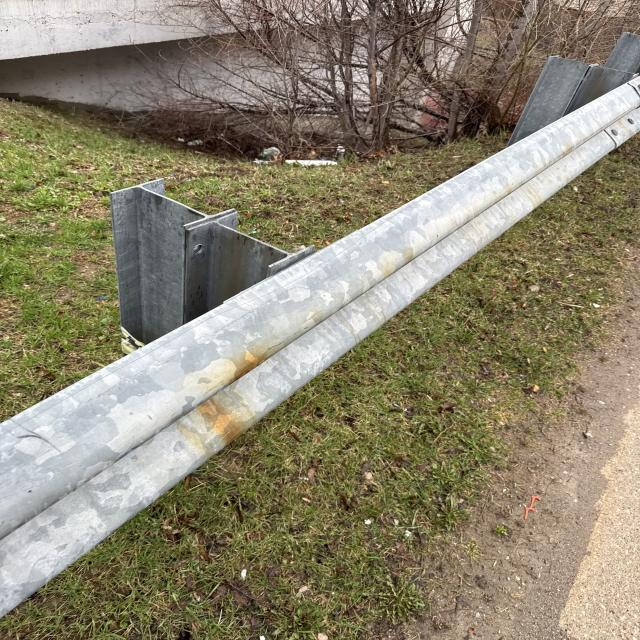Guard rail: (120, 96, 640, 338)
